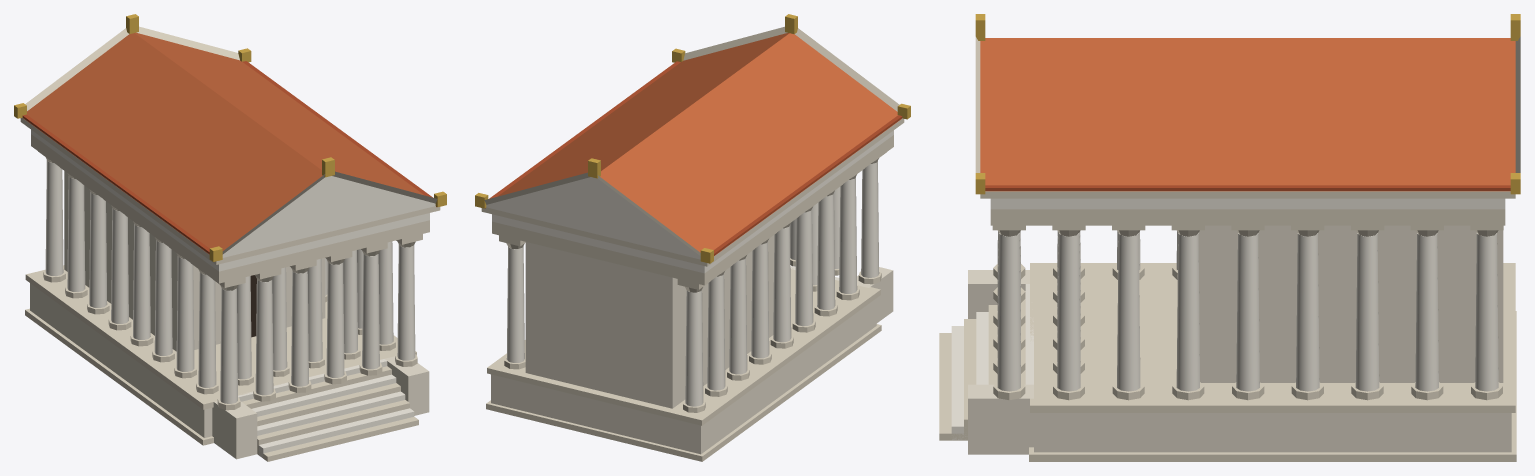
File: roman_temple.glb
The picture shows the model from 3 angles, left to right: view 1: azimuth 30°, elevation 25°; view 2: azimuth 150°, elevation 25°; view 3: azimuth 270°, elevation 25°; orthographic projection. The views are drawn at different scales.
Parts seen in each view (by area): view 1: roman_temple; view 2: roman_temple; view 3: roman_temple.
Part boxes in pixels (<box>): roman_temple: <box>14,14,446,461</box>; roman_temple: <box>475,14,910,461</box>; roman_temple: <box>939,14,1520,461</box>.
Size of the model in its own units: 4.48 by 5 by 7.06.
